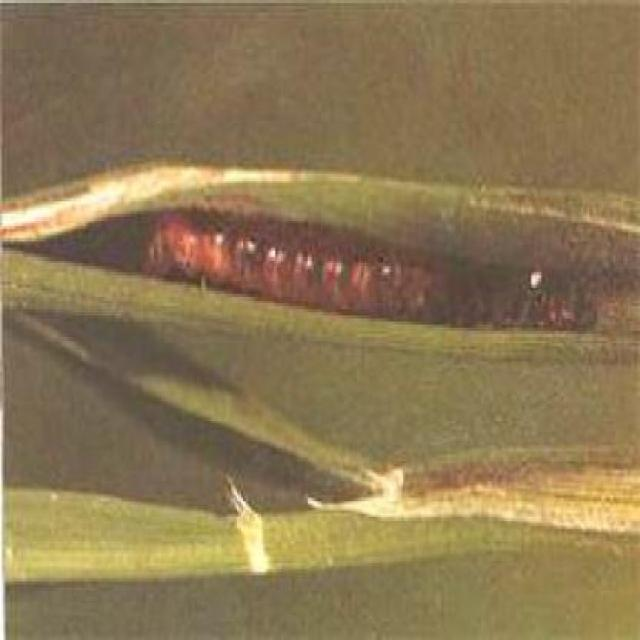leaf-folder: (115, 138, 592, 374)
